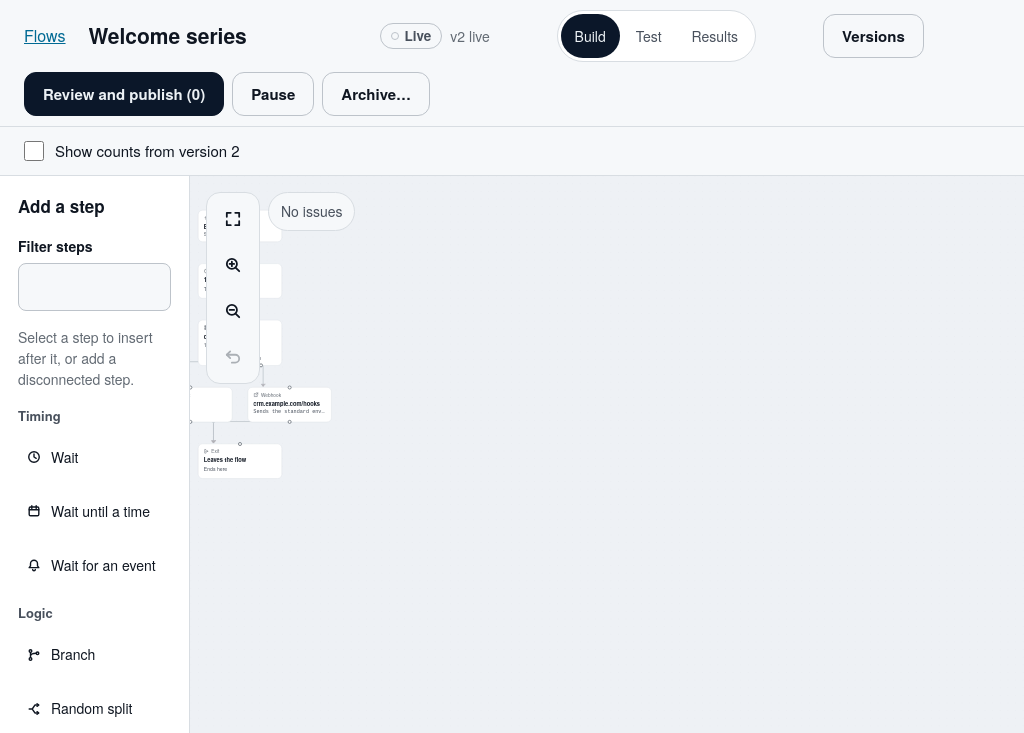
Test: archive › archives on confirmation and leaves the flow read-only
This screenshot has width=1024, height=733.
Click the button "Archive…": (376, 94) [322, 72, 430, 116]
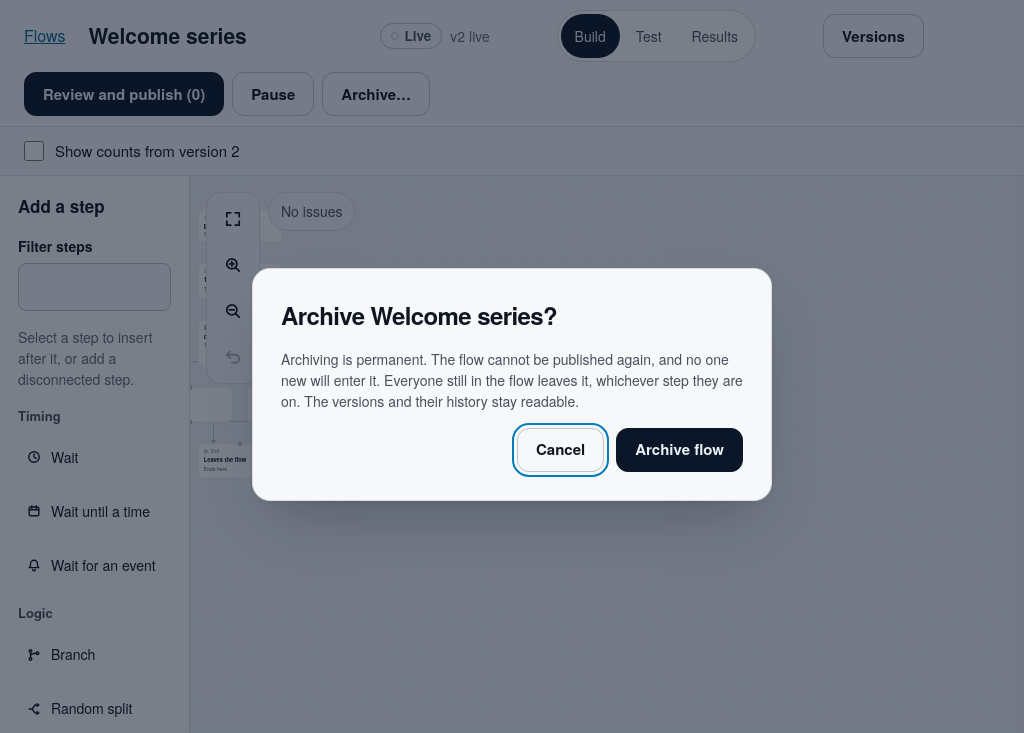
Click the button "Archive flow": (680, 450) [616, 428, 743, 472]
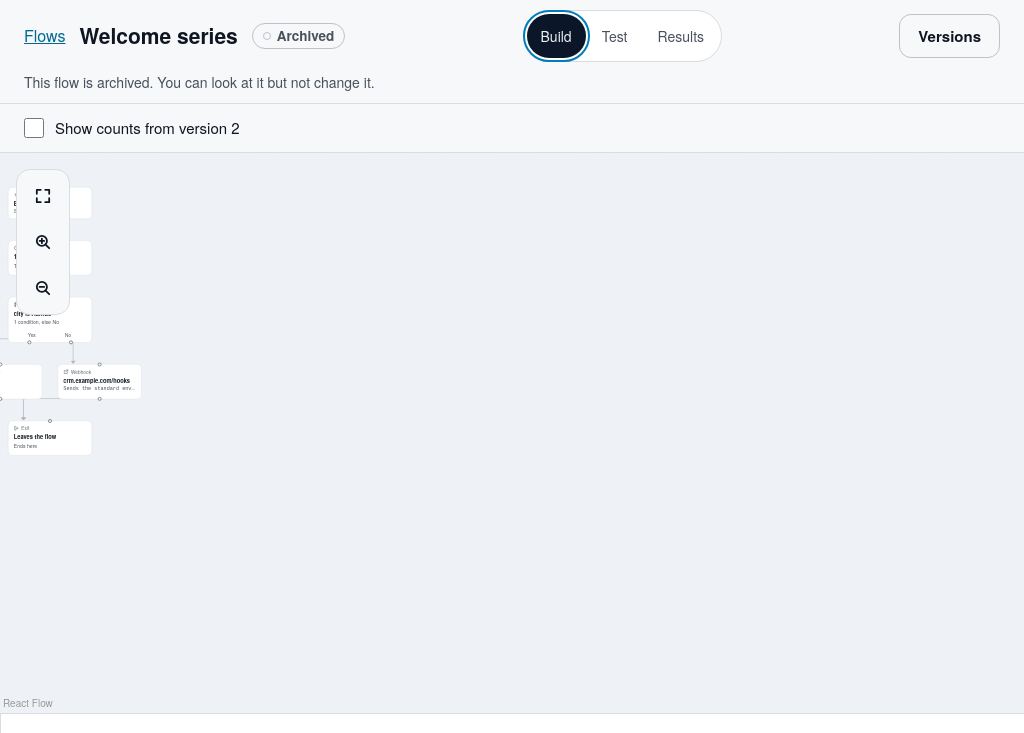
Expected: the dialog is gone
Expected: the text "Archived" is shown, [252, 23, 345, 49]
Expected: the text "This flow is archived. You can look at it but not change it." is shown, [24, 72, 375, 92]
